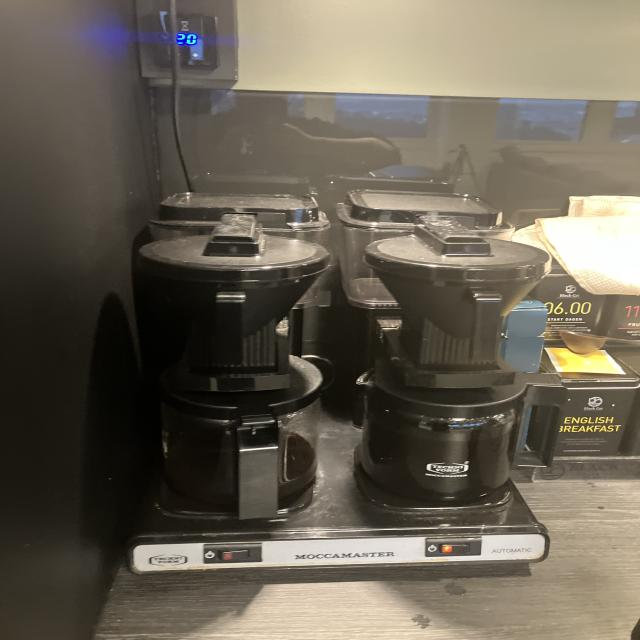coffee: (142, 356, 325, 518), (351, 358, 540, 504)
